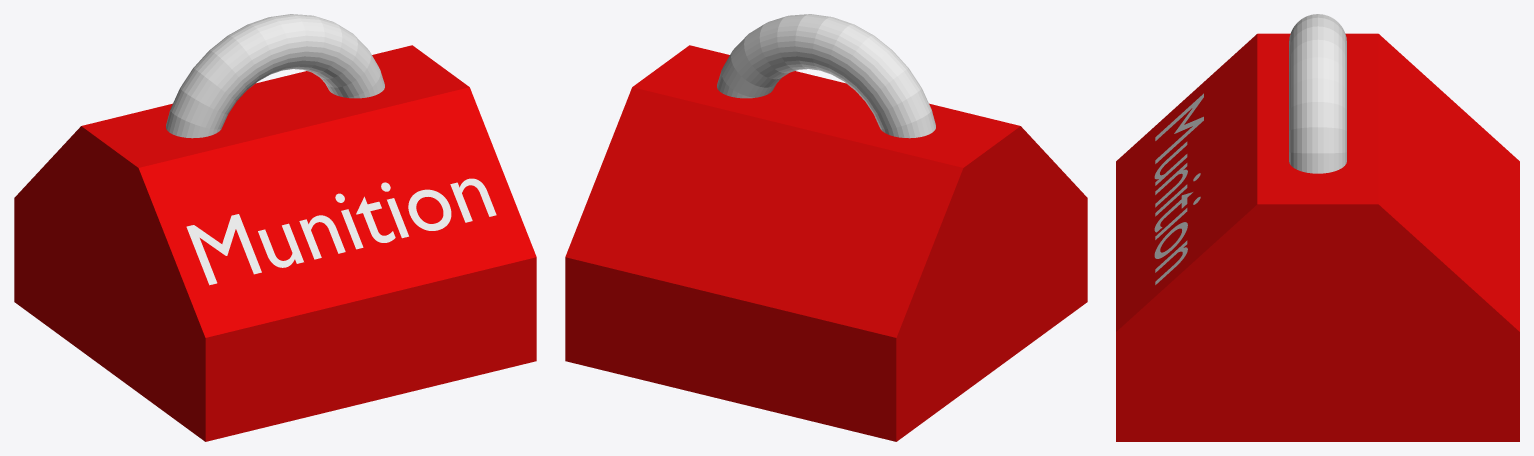
Rendered from Munition_box.fbx.
3 views of the same model, side by side, from view 1: azimuth 30°, elevation 25°; view 2: azimuth 150°, elevation 25°; view 3: azimuth 270°, elevation 25° (orthographic). The views are drawn at different scales.
Parts seen in each view (by area): view 1: Cube, Cylinder, Text; view 2: Cube, Cylinder; view 3: Cube, Cylinder, Text.
Part boxes in pixels (bbox=[...]): Cube: bbox=[14, 45, 536, 441]; Cylinder: bbox=[166, 14, 384, 138]; Text: bbox=[186, 178, 496, 285]; Cube: bbox=[565, 45, 1087, 441]; Cylinder: bbox=[717, 14, 935, 138]; Cube: bbox=[1116, 33, 1519, 441]; Cylinder: bbox=[1289, 14, 1346, 173]; Text: bbox=[1154, 93, 1203, 284].
Size of the model in its own units: 200 by 180 by 200.
